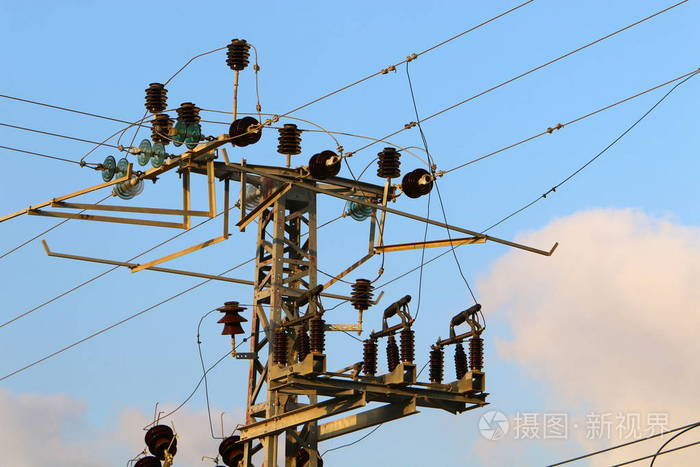insulator: (137, 140, 167, 172), (100, 155, 130, 184), (170, 120, 201, 148), (116, 174, 144, 202), (347, 197, 377, 222)
